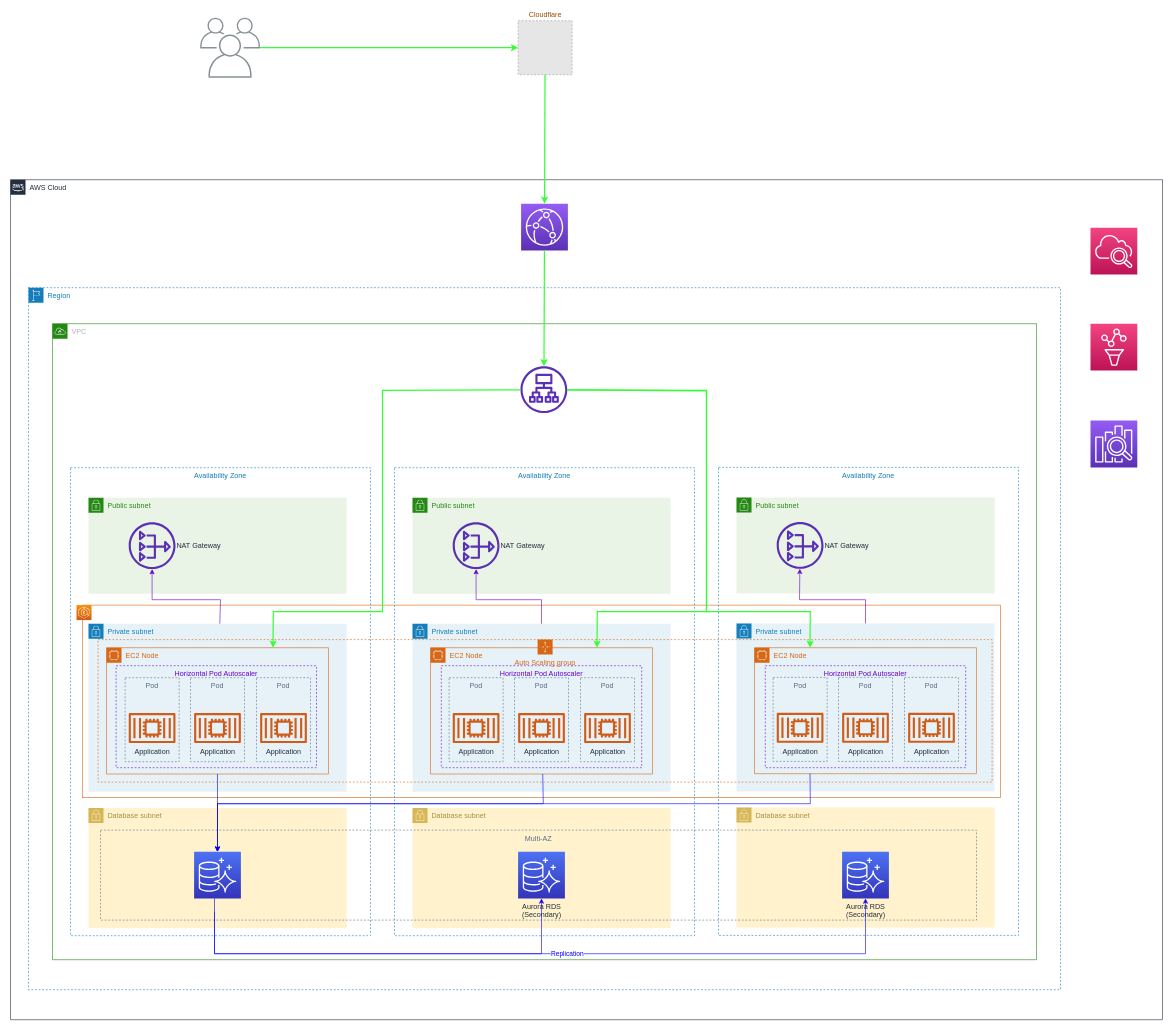
Some shapes in this 1173 by 1030 pixel diagram are drawn without their labels. Grey dashed boxes stand in for pictures. The shapes that lost their labels are listed below. From the top down, each one's centre as x and y in pixels, then its label:
At [230,47]: "users".
At [544,226]: "Cloudfront".
At [1113,250]: "CloudWatch".
At [1113,346]: "Prometheus".
At [543,389]: "Application Load Balancer".
At [1113,443]: "ELK".
At [84,612]: "EKS Cluster".
At [217,874]: "Aurora RDS (Primary)".
